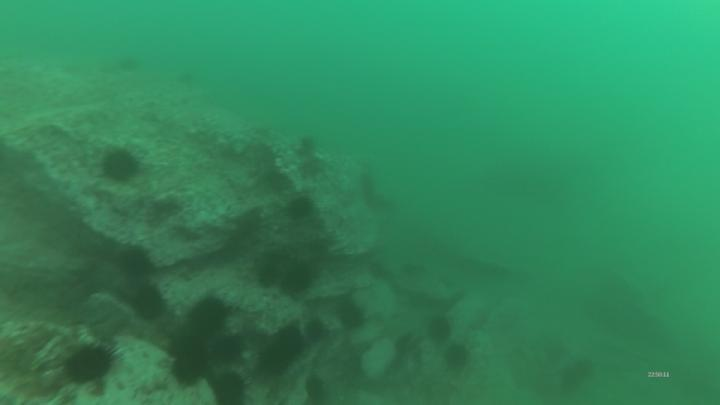echinus: (63, 339, 122, 387), (98, 146, 144, 188), (129, 284, 170, 325), (116, 244, 155, 285), (191, 297, 227, 339), (212, 370, 253, 405), (172, 351, 209, 389), (276, 326, 310, 364), (257, 342, 291, 377), (211, 334, 246, 365), (336, 299, 367, 334), (443, 342, 473, 378), (426, 316, 454, 348), (285, 266, 315, 294), (284, 196, 315, 223), (302, 315, 328, 347), (303, 375, 328, 405)
